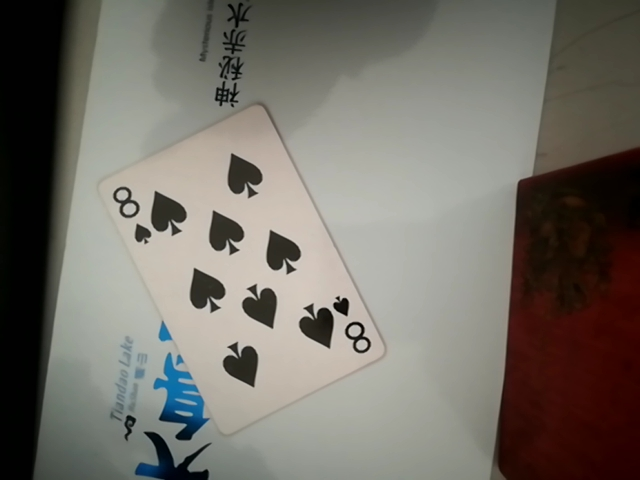ht 8: (103, 106, 387, 441)
